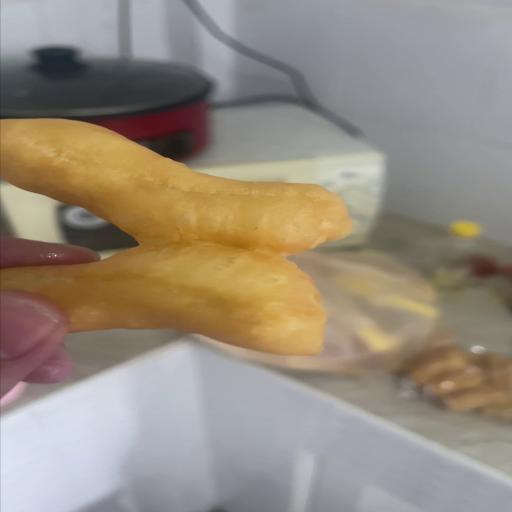street_golden_good: (0, 119, 350, 355)
